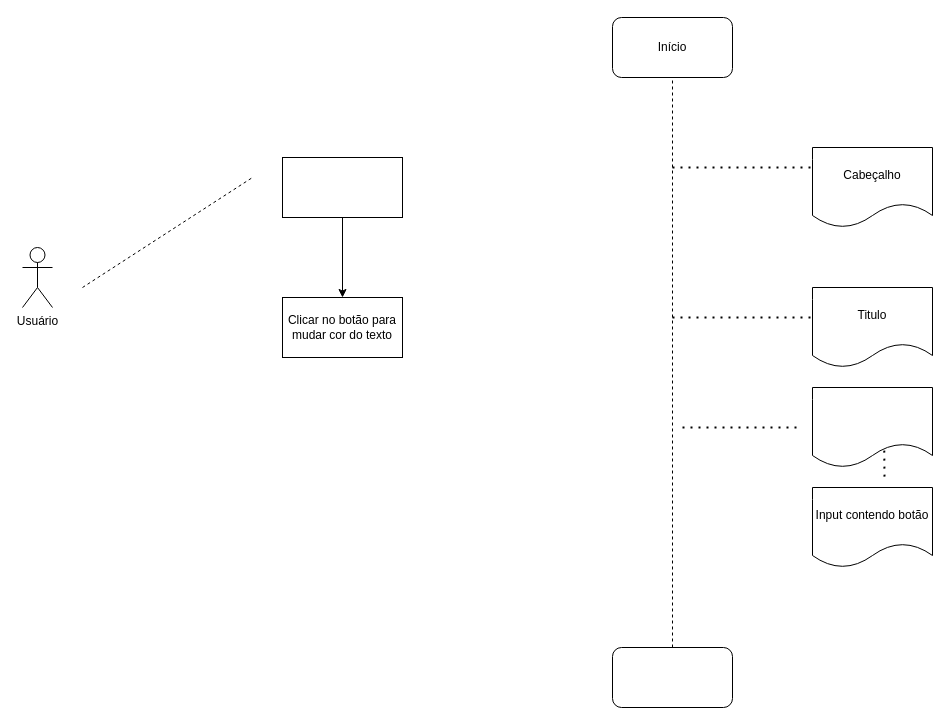
The diagram is 950 pixels wide and 725 high, and some of its shapes have lost their labels. The shapes that lost their labels are listed below. From the top down, each one's centre as x and y in pixels, then its label:
At point 342,187: "Acessar a página web".
At point 872,427: "Seção com texto".
At point 672,677: "Fim".
